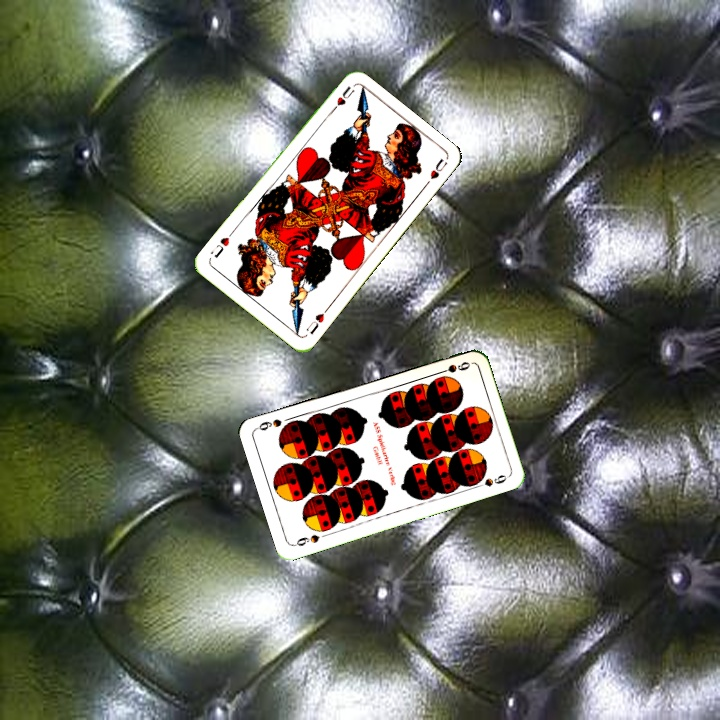HU: (326, 82, 357, 116), (302, 304, 331, 337)
S9: (433, 357, 473, 377), (290, 530, 322, 549)
